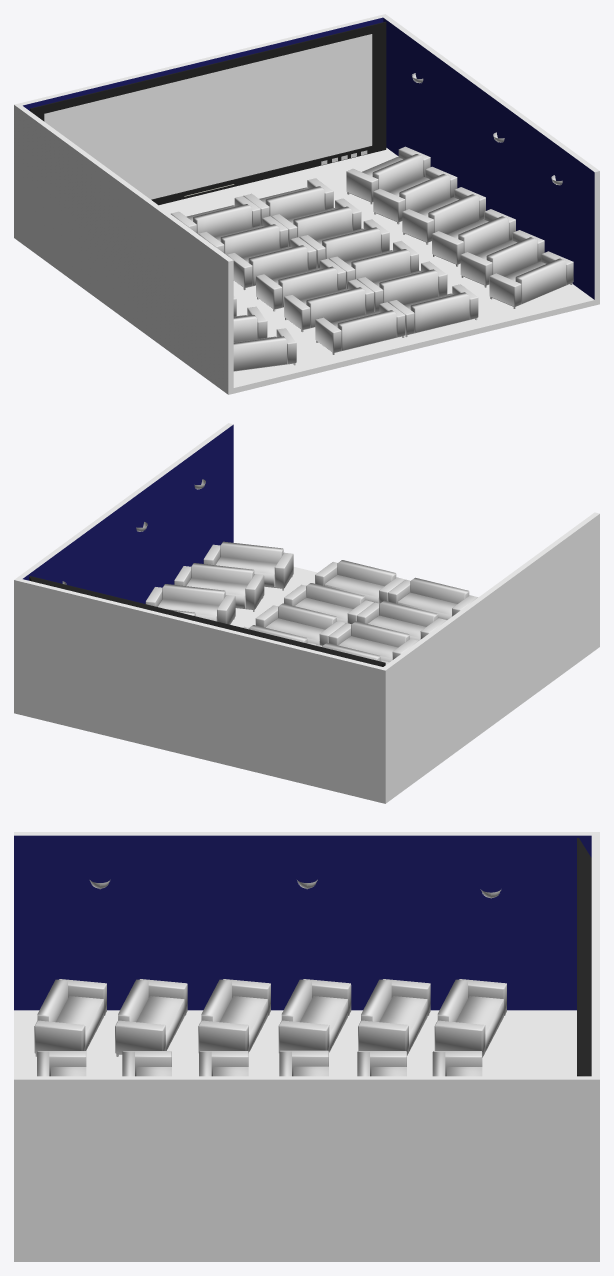
3 renders of one model, top to bottom at view 1: azimuth 30°, elevation 25°; view 2: azimuth 150°, elevation 25°; view 3: azimuth 270°, elevation 25°, orthographic. The views are drawn at different scales.
Visible parts, largest first — view 1: Layer0_001, Group#12_094, Group#12_032, Group#12_028, Group_008, Group#12_030, Group#12_026, Group#12_034, Group_002, Group#12_038, Group_010, Group_012 (+38 smaller); view 2: Layer0_001, Group_008, Group_010, Group#12_020, Group#12_014, Group#12_010; view 3: Layer0_001, Group_037, Group_047, Group_041, Group_045, Group_039, Group_043, Group#12_091, Group#12_079, Group#12_087, Group#12_095, Group#12_083 (+14 smaller).
Part boxes in pixels (left/top/right/bottom): Layer0_001: left=14, top=14, right=599, bottom=394; Group#12_094: left=254, top=336, right=286, bottom=367; Group#12_032: left=337, top=316, right=369, bottom=350; Group#12_028: left=410, top=299, right=442, bottom=332; Group_008: left=489, top=273, right=521, bottom=306; Group#12_030: left=365, top=310, right=396, bottom=343; Group#12_026: left=438, top=292, right=469, bottom=326; Group#12_034: left=407, top=269, right=438, bottom=302; Group_002: left=402, top=209, right=434, bottom=242; Group#12_038: left=334, top=287, right=365, bottom=320; Group_010: left=460, top=252, right=492, bottom=285; Group_012: left=373, top=189, right=405, bottom=221; Layer0_001: left=14, top=423, right=599, bottom=803; Group_008: left=274, top=552, right=293, bottom=588; Group_010: left=245, top=574, right=264, bottom=609; Group#12_020: left=221, top=566, right=254, bottom=584; Group#12_014: left=220, top=541, right=252, bottom=560; Group#12_010: left=162, top=584, right=194, bottom=602; Layer0_001: left=14, top=832, right=599, bottom=1261; Group_037: left=434, top=1020, right=485, bottom=1057; Group_047: left=34, top=1020, right=85, bottom=1053; Group_041: left=278, top=1020, right=329, bottom=1052; Group_045: left=115, top=1020, right=165, bottom=1053; Group_039: left=358, top=1020, right=408, bottom=1055; Group_043: left=198, top=1020, right=248, bottom=1053; Group#12_091: left=141, top=996, right=184, bottom=1033; Group#12_079: left=384, top=996, right=427, bottom=1033; Group#12_087: left=224, top=996, right=267, bottom=1033; Group#12_095: left=60, top=996, right=103, bottom=1033; Group#12_083: left=304, top=996, right=347, bottom=1033.
Bounding box in the file's own units: 420 × 144 × 420.
